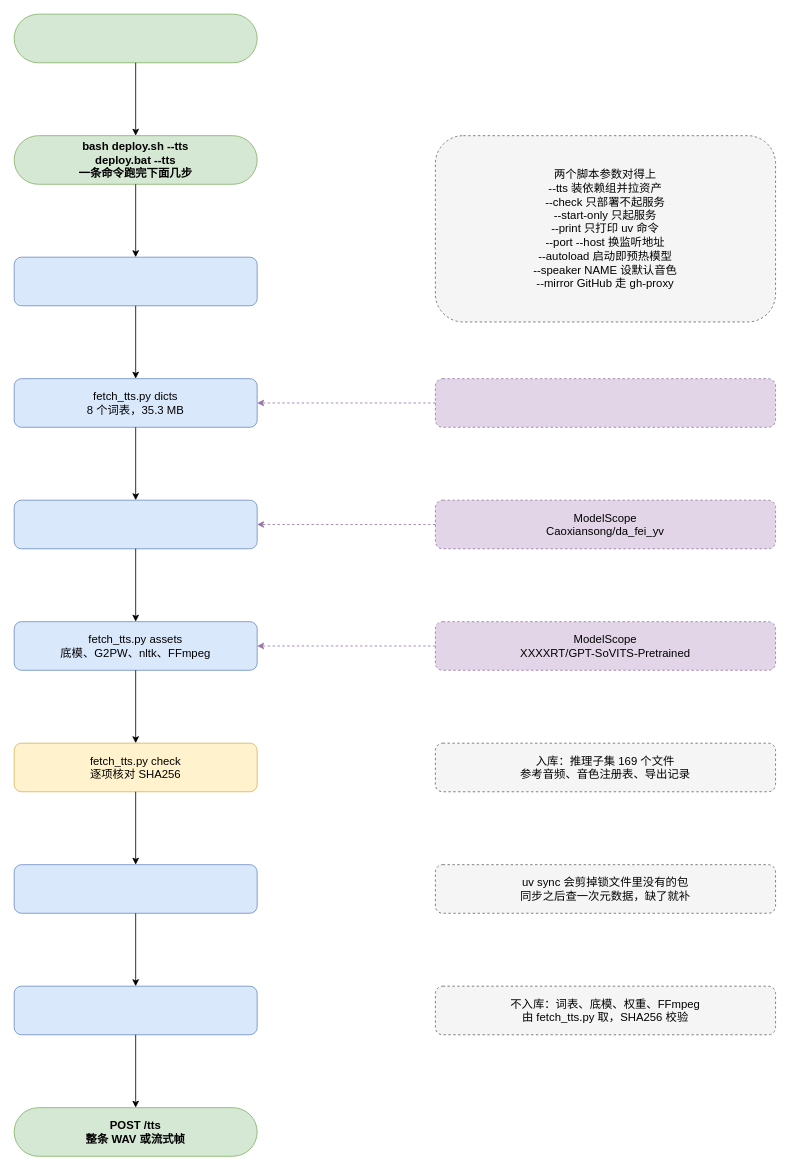
Image size: 790x1170. Some labels were removed from this diagram. The box of each missing label's shape, as (x1, y1, x2, y2) in pixels:
fetch_tts.py voice 两个音色四份权重，590 MiB: (13, 499, 257, 549)
git clone CXSforHPU/Agent: (13, 13, 257, 63)
raw.githubusercontent.com 钉住的 UPSTREAM_COMMIT: (435, 378, 776, 427)
启动 main.py 监听 8000: (13, 985, 257, 1035)
补韩语依赖 eunjeon + setuptools<81: (13, 864, 257, 913)
装配环境 uv sync 按算力选 cpu / cu126 / cu130: (13, 256, 257, 306)
